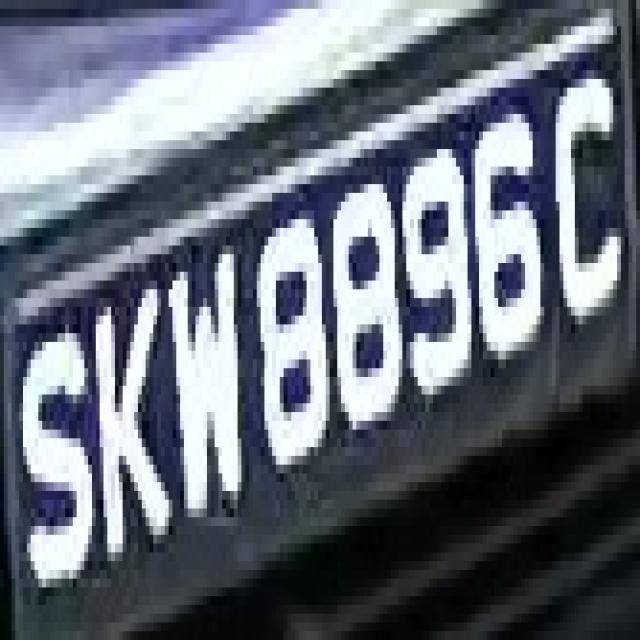6: (468, 96, 548, 368)
8: (322, 158, 410, 473), (249, 184, 330, 482)
9: (398, 132, 472, 394)
C: (548, 61, 625, 342)
K: (88, 254, 165, 579)
S: (23, 307, 96, 587)
W: (165, 228, 257, 535)
